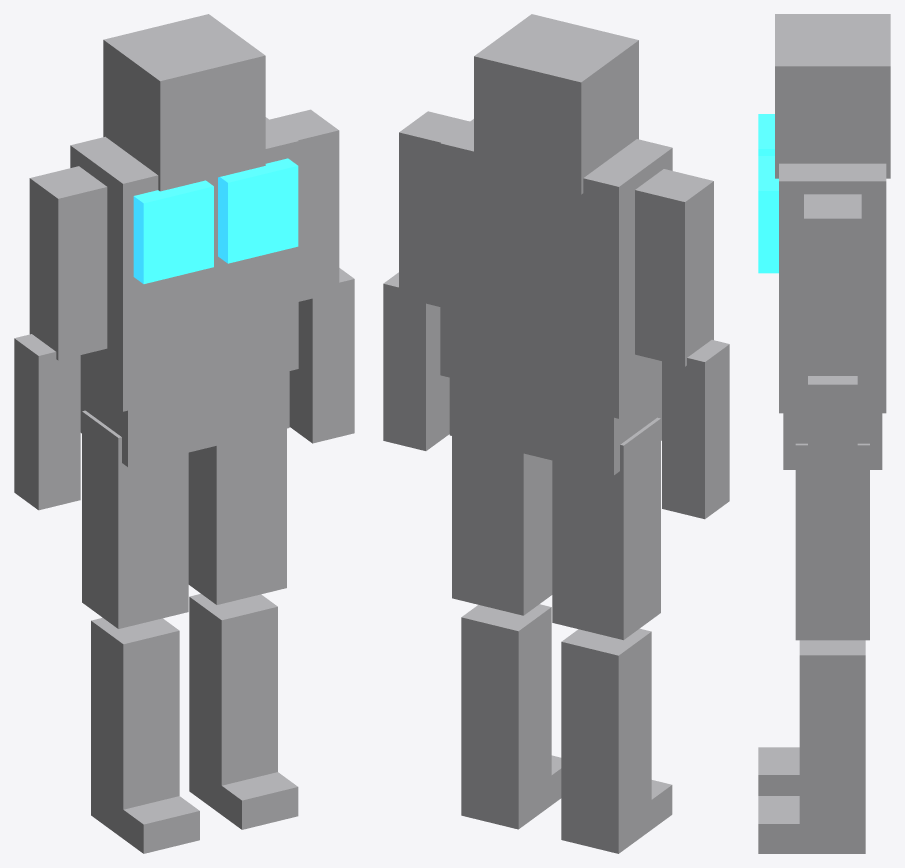
File: chest.glb
3 renders of one model, left to right at view 1: azimuth 30°, elevation 25°; view 2: azimuth 150°, elevation 25°; view 3: azimuth 270°, elevation 25°, orthographic.
Visible parts, largest first — view 1: Mannequin; view 2: Mannequin; view 3: Mannequin.
Boxes of the visible parts, x1=… form: Mannequin: x1=14, y1=14, x2=354, y2=853; Mannequin: x1=383, y1=14, x2=729, y2=853; Mannequin: x1=758, y1=14, x2=890, y2=853.
Size of the model in its own units: 0.9 by 2.07 by 0.32.
